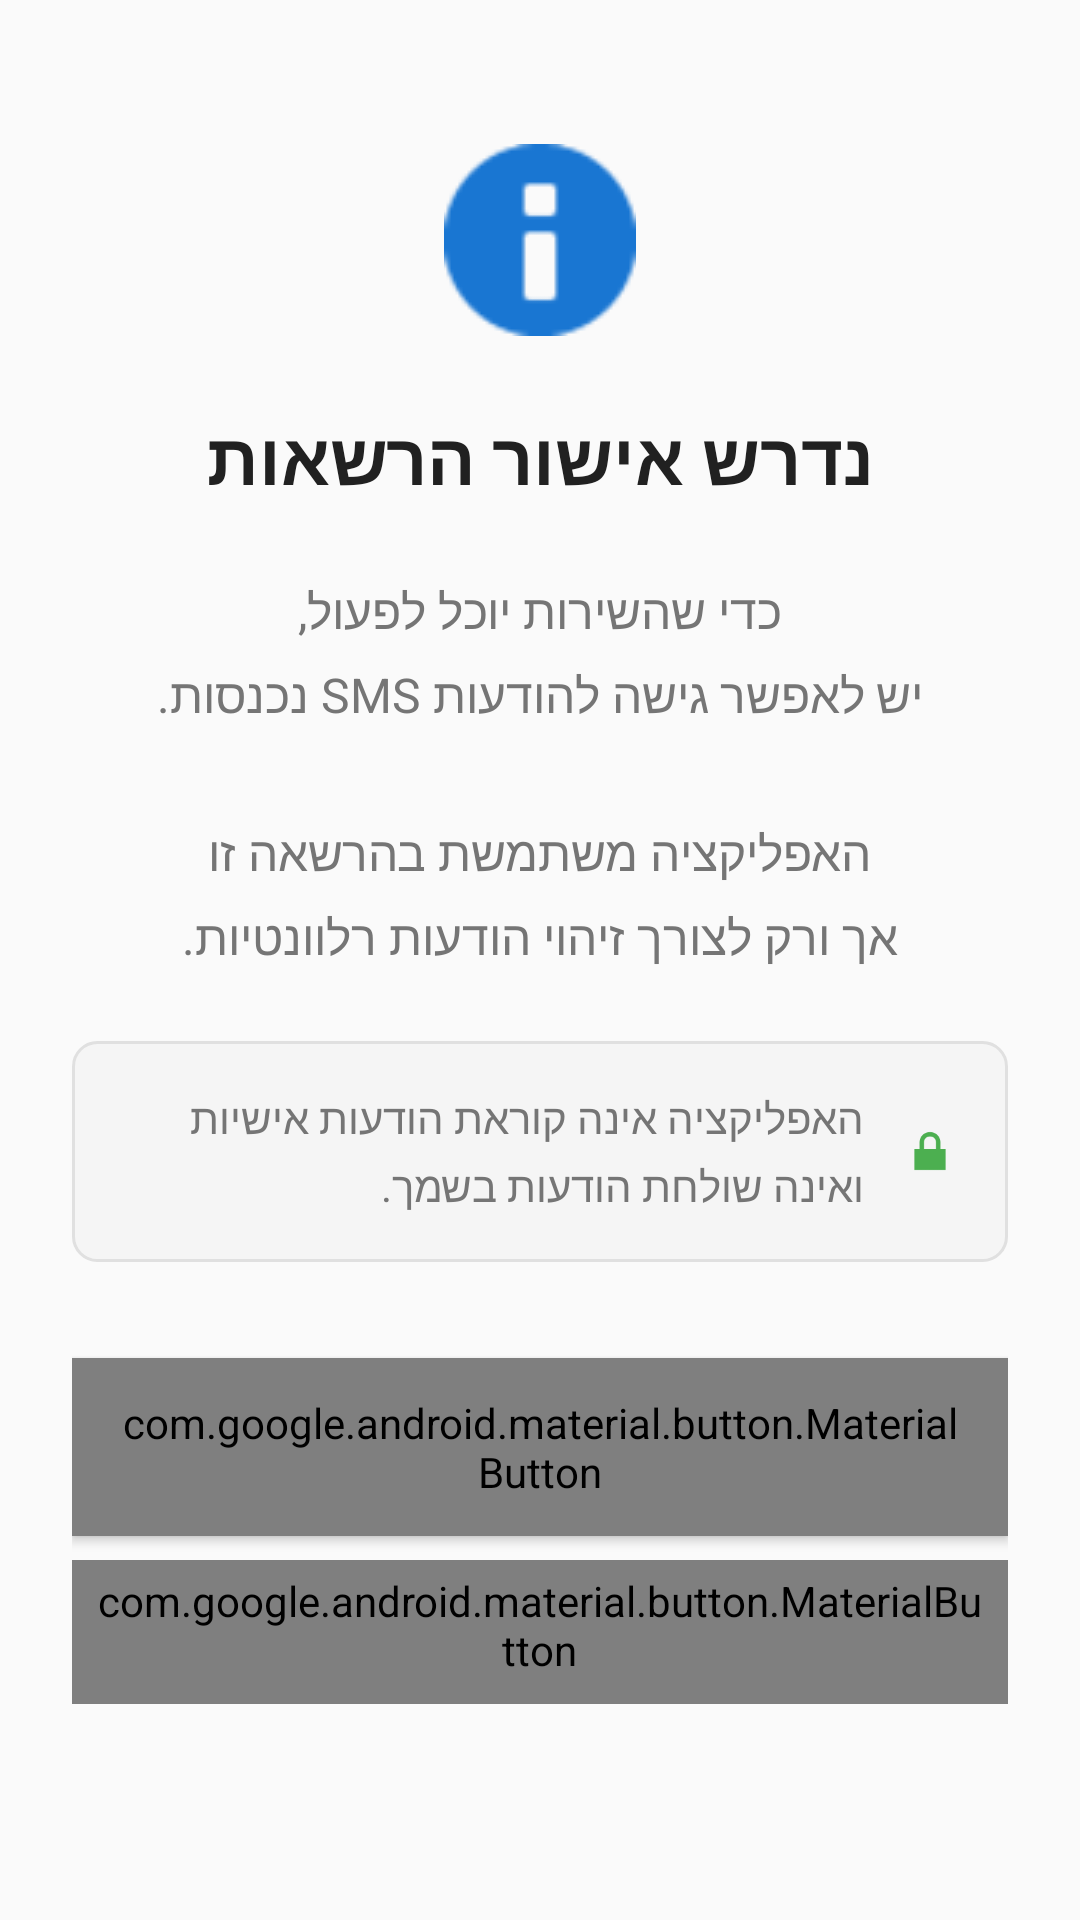

Icon click points for this 1080w x 1920h phone screenshot, format (x=x, y=y):
info: (x=540, y=240)
lock: (x=930, y=1151)
